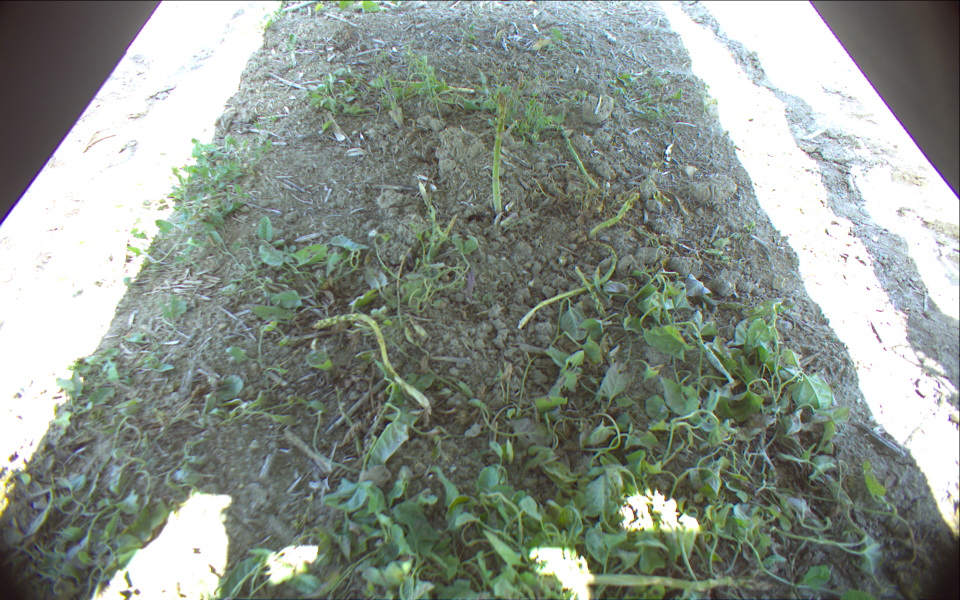aspa: (314, 315, 428, 408), (518, 240, 617, 331), (589, 193, 639, 242), (558, 124, 594, 185), (493, 90, 507, 215)
